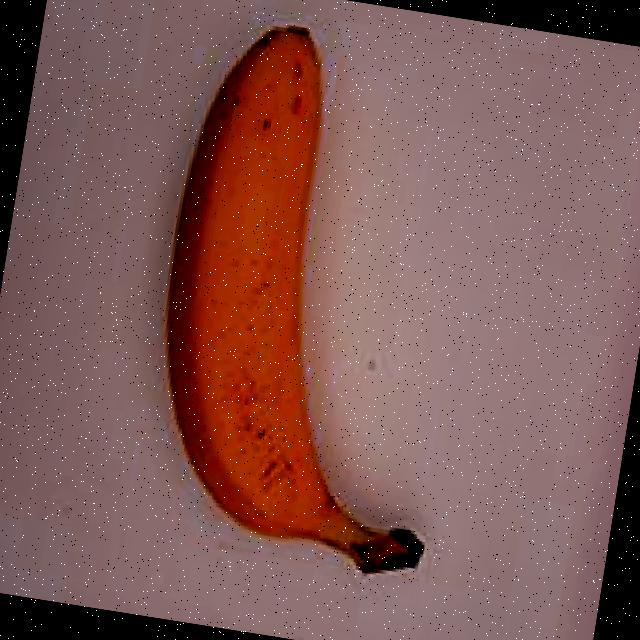Ripe: (91, 0, 528, 602)
